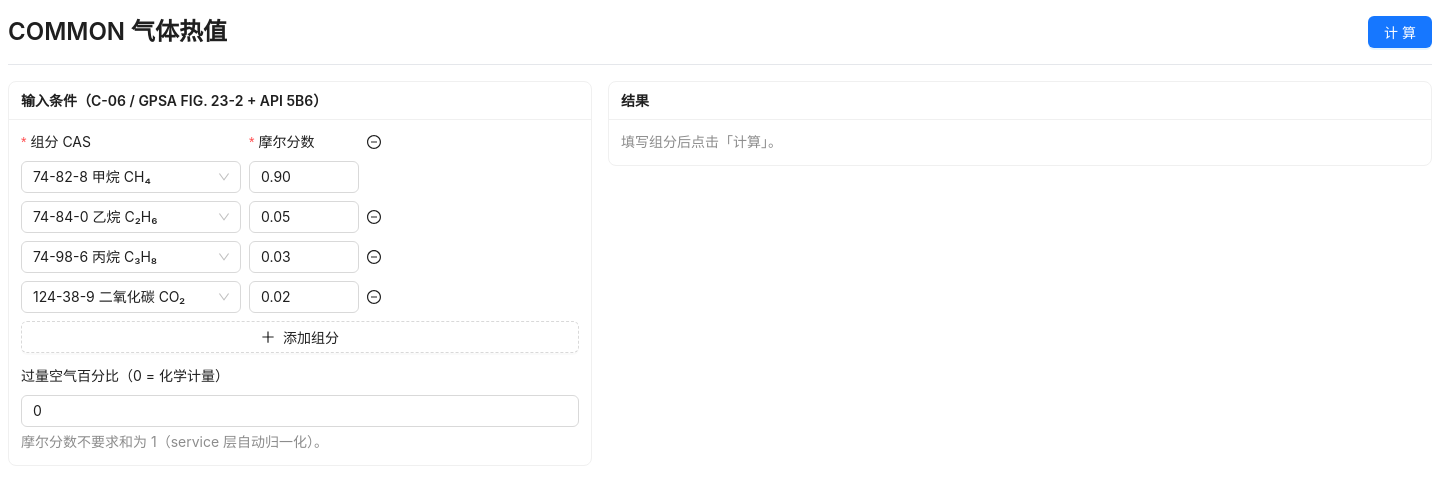
Test: HeatingValuePage — 计算路径 › PcsError envelope → 显示 message
Click the button with test id "heating-value-calculate": (1400, 32) x1=1368 y1=16 x2=1432 y2=48
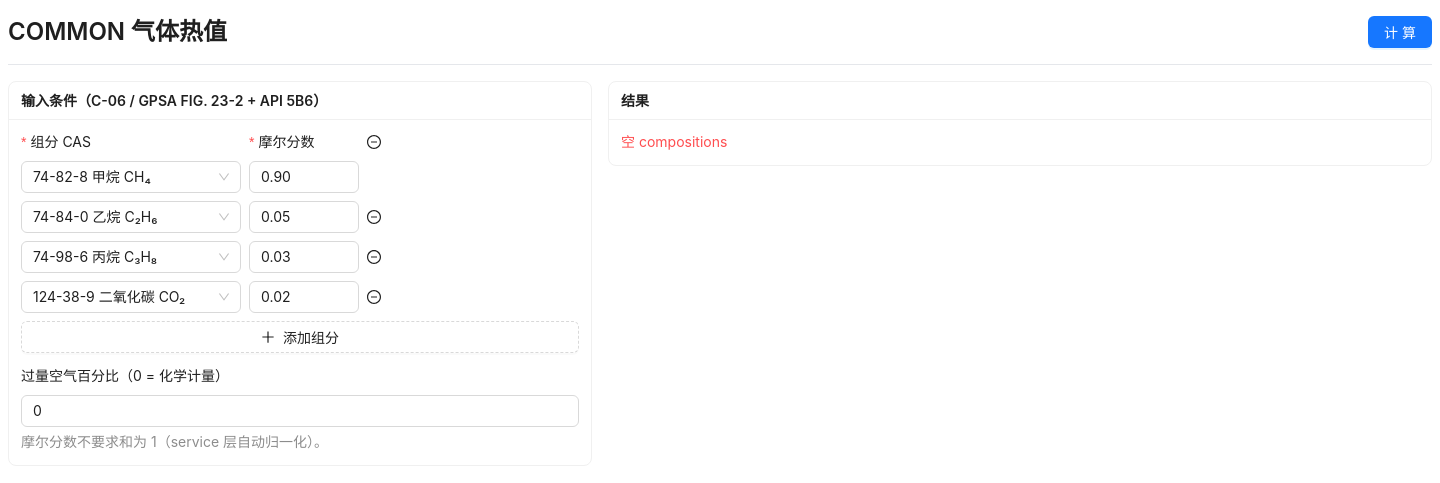
Expected: the text with test id "heating-value-error" reads "空 compositions", x1=621 y1=133 x2=727 y2=150
